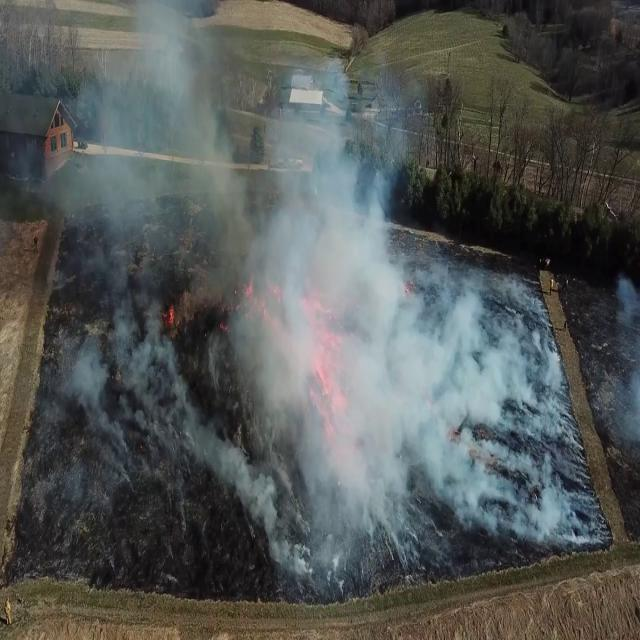Smoke: (235, 84, 589, 602), (3, 0, 294, 468)
